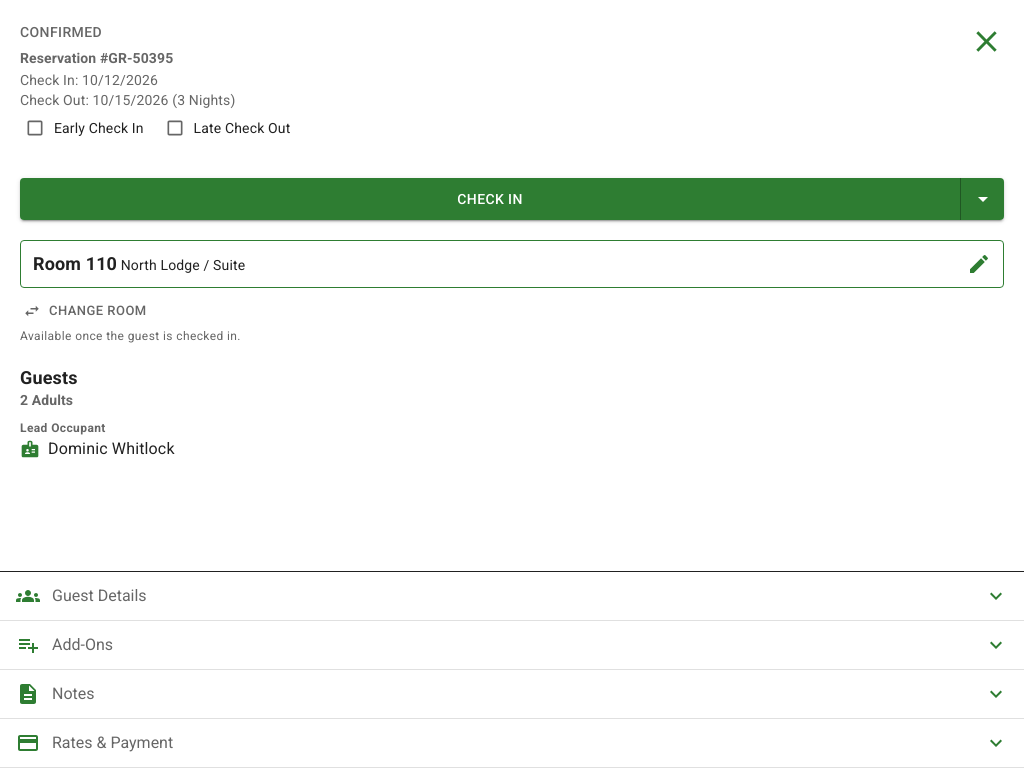
Scenario: check in on a past date › asks first, naming the original arrival date; Escape closes it and returns focus
Click the button "Check In": (491, 199) x1=20 y1=178 x2=961 y2=220
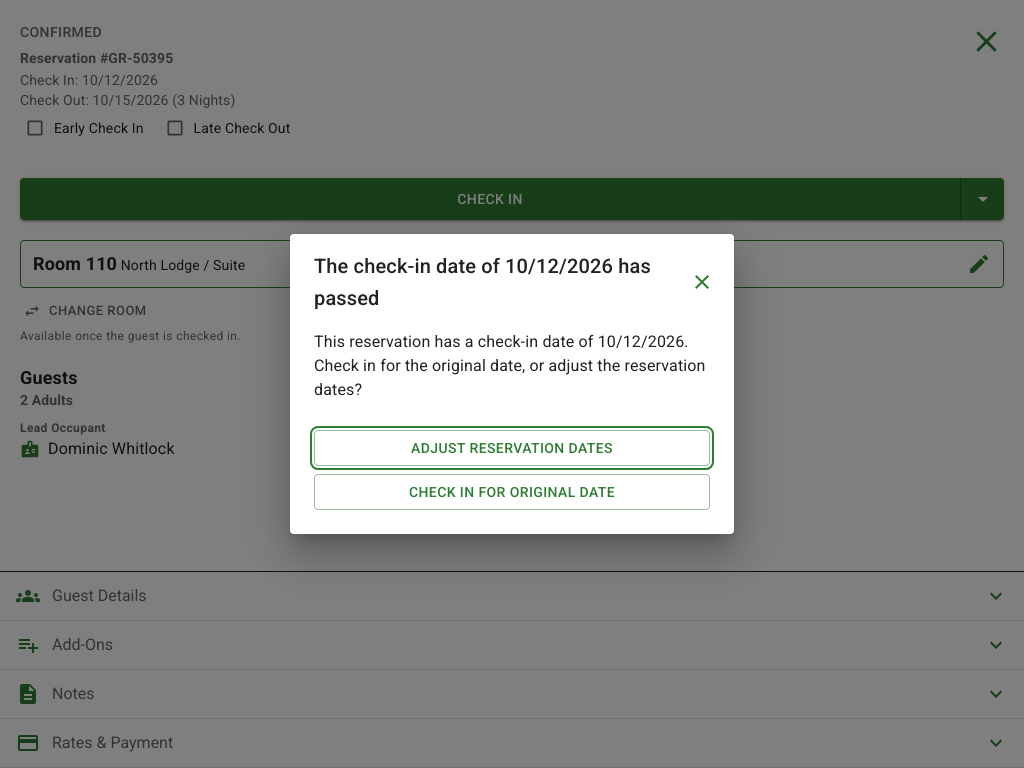
expect the text "Check in for the original date, or adjust the reservation dates?" is shown: met, box x1=314 y1=332 x2=706 y2=399
Press Escape
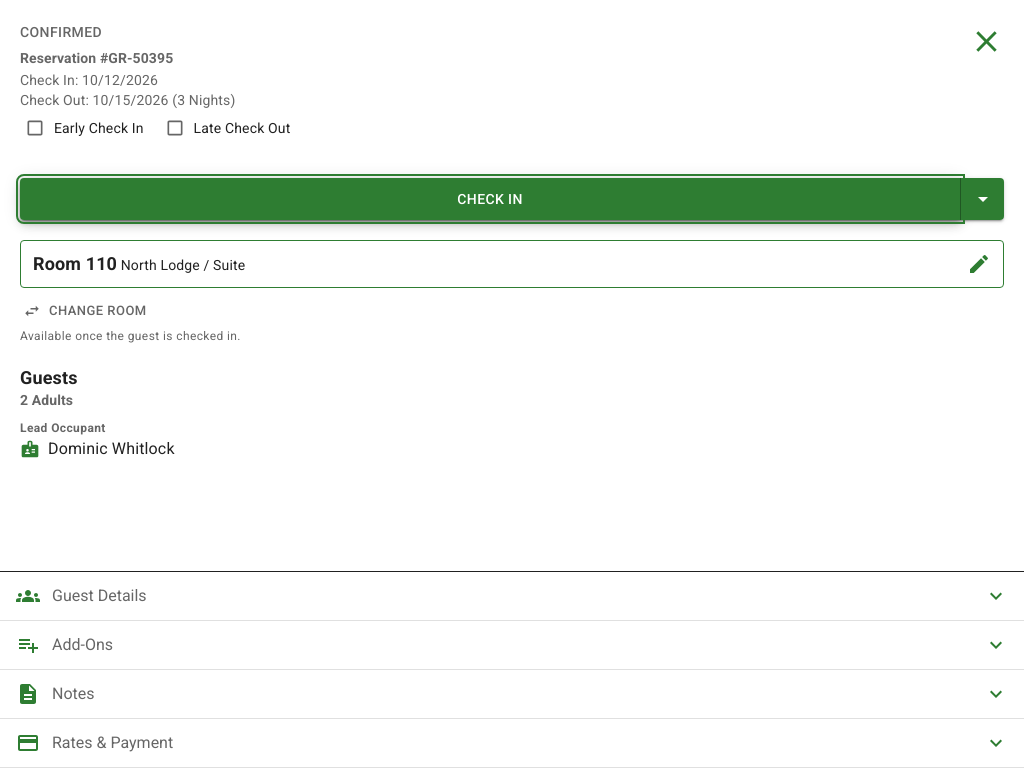
expect the text "has passed" is gone: met
